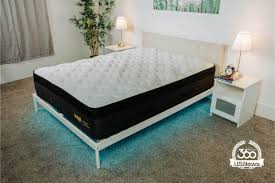bed-matress: (33, 47, 216, 141)
